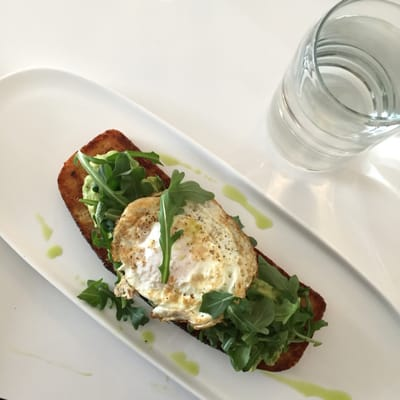pizza: (264, 0, 400, 177)
